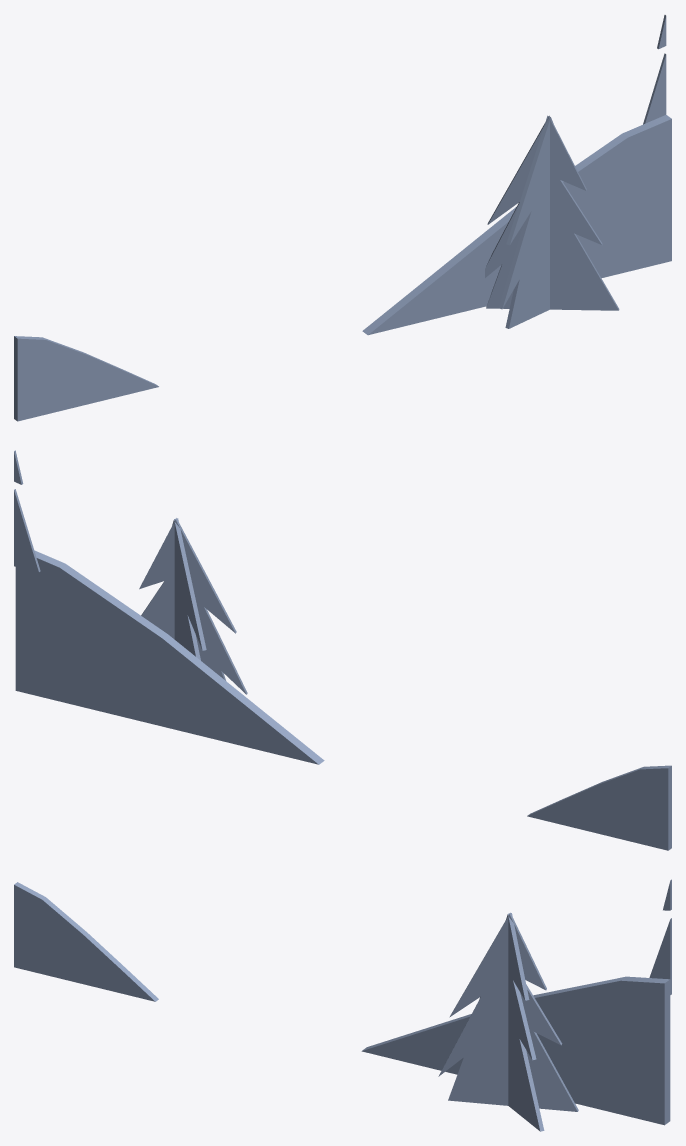
Rendered from frame_0062.glb.
3 views of the same model, one above another, from view 1: azimuth 30°, elevation 25°; view 2: azimuth 150°, elevation 25°; view 3: azimuth 330°, elevation 25° (orthographic).
Parts seen in each view (by area): view 1: export_trees_001.002; view 2: export_trees_001.002; view 3: export_trees_001.002.
Part boxes in pixels (<box>): export_trees_001.002: <box>14,15,671,421</box>; export_trees_001.002: <box>14,450,671,850</box>; export_trees_001.002: <box>14,879,671,1131</box>.
Size of the model in its own units: 0.4327 by 0.1538 by 0.0496.
